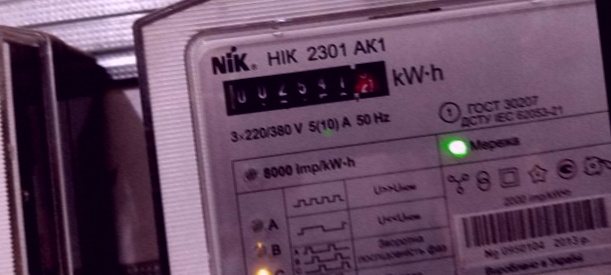0: (233, 80, 249, 103), (254, 76, 269, 98)
1: (334, 64, 348, 89)
2: (274, 72, 290, 96)
4: (314, 67, 328, 89)
5: (294, 70, 309, 94)
6: (358, 78, 370, 91)
screen: (209, 46, 403, 122)
